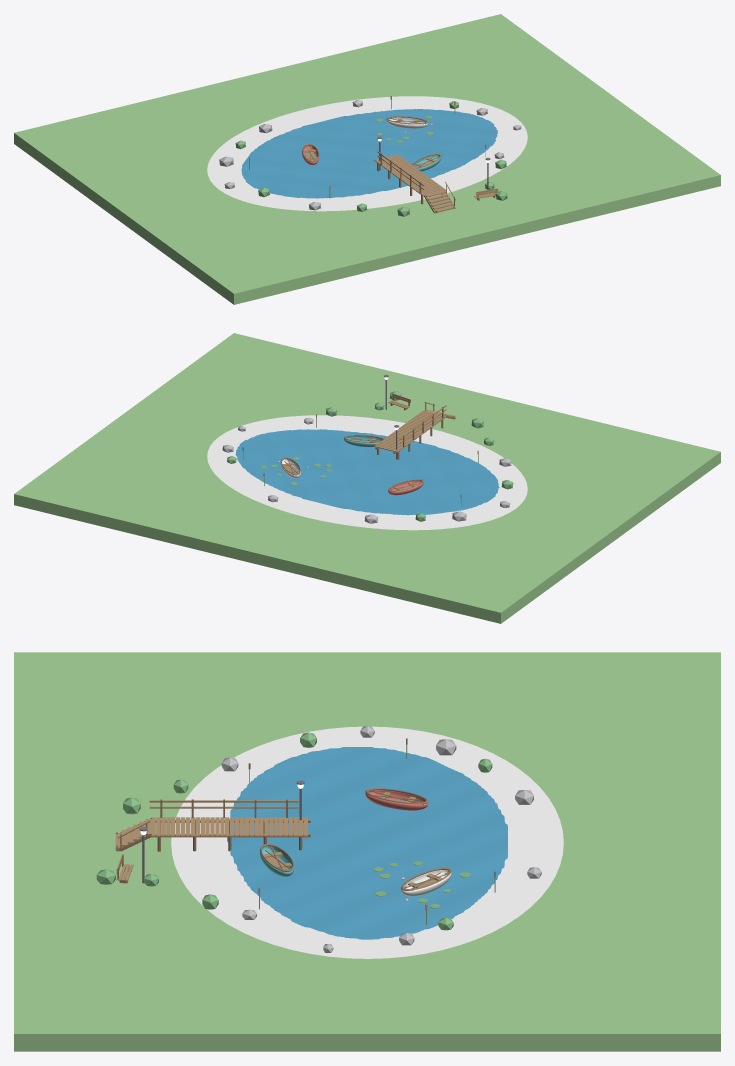
The model's file is danau-blender-v1.glb.
3 views of the same model, one above another, from view 1: azimuth 30°, elevation 25°; view 2: azimuth 150°, elevation 25°; view 3: azimuth 270°, elevation 25° (orthographic). The views are drawn at different scales.
Visible parts, largest first — view 1: ground, water, sand, pier, plants, rocks; view 2: ground, water, sand, pier, plants, rocks; view 3: ground, water, sand, pier, plants, rocks, boat.001, boat.002, boat.
Part boxes in pixels (left/top/right/bottom): ground: left=14, top=14, right=720, bottom=304; water: left=241, top=109, right=497, bottom=198; sand: left=207, top=96, right=527, bottom=211; pier: left=374, top=151, right=455, bottom=213; plants: left=235, top=95, right=507, bottom=216; rocks: left=219, top=100, right=521, bottom=210; ground: left=14, top=333, right=720, bottom=623; water: left=235, top=429, right=499, bottom=515; sand: left=207, top=415, right=527, bottom=530; pier: left=374, top=401, right=455, bottom=459; plants: left=227, top=391, right=513, bottom=521; rocks: left=222, top=417, right=511, bottom=523; ground: left=14, top=652, right=720, bottom=1051; water: left=227, top=747, right=507, bottom=939; sand: left=171, top=726, right=563, bottom=958; pier: left=115, top=799, right=310, bottom=851; plants: left=96, top=732, right=495, bottom=930; rocks: left=221, top=726, right=541, bottom=952; boat.001: left=365, top=788, right=428, bottom=810; boat.002: left=401, top=868, right=451, bottom=896; boat: left=260, top=844, right=294, bottom=876.
Bounding box in the file's own units: 46 × 4.05 × 36.
